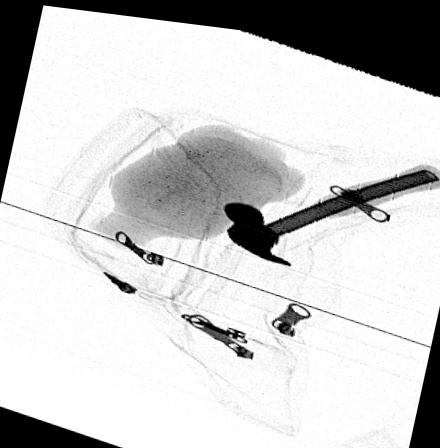Hammer: (221, 153, 440, 259)
